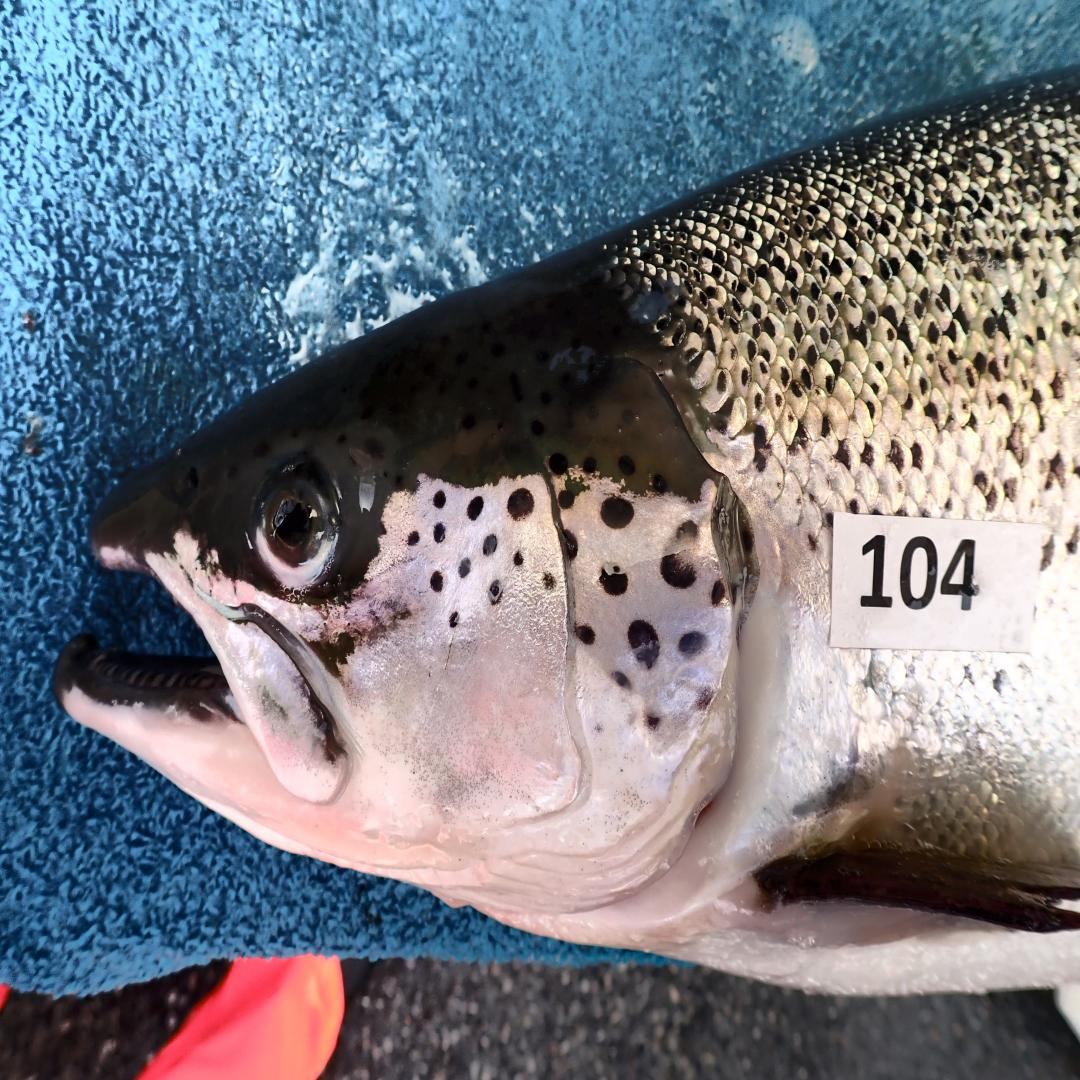spot: (626, 619, 660, 671), (660, 554, 696, 588), (601, 495, 635, 529), (599, 560, 629, 596), (508, 487, 534, 520), (679, 630, 705, 655), (547, 453, 569, 476), (563, 529, 578, 560), (677, 520, 698, 542), (693, 688, 714, 710), (466, 495, 483, 520), (710, 579, 726, 605), (576, 624, 595, 644), (557, 489, 575, 509), (483, 533, 498, 557), (612, 671, 631, 689), (489, 579, 502, 605), (430, 571, 443, 593), (432, 490, 446, 508), (458, 557, 470, 577), (645, 714, 660, 729), (542, 574, 555, 591), (583, 456, 596, 473), (434, 523, 445, 543), (407, 531, 420, 546), (449, 610, 460, 627), (513, 551, 523, 565)
